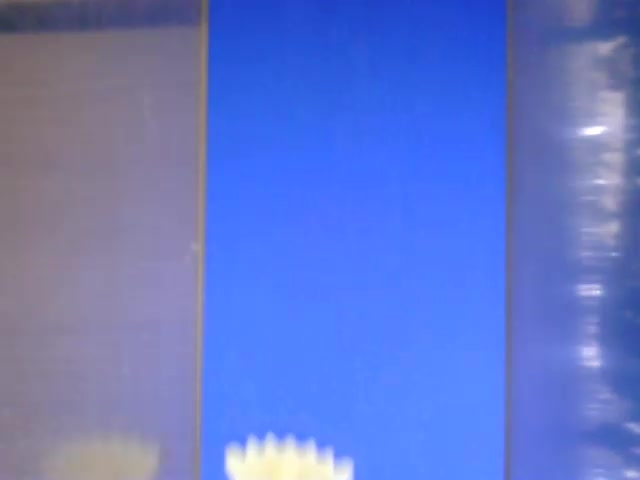farfalle: (223, 433, 354, 480)
